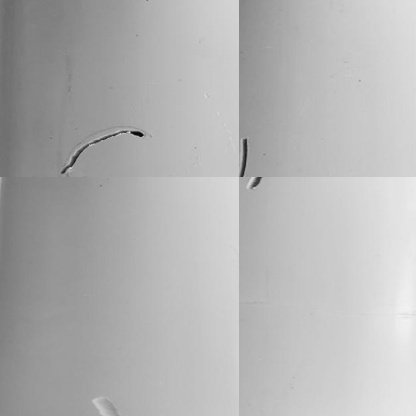fengxi: (58, 119, 147, 177), (236, 135, 256, 174)
kongdong: (246, 171, 267, 189)
sunshang: (90, 388, 116, 414)
